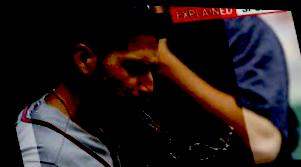spitting: (7, 0, 255, 166)
